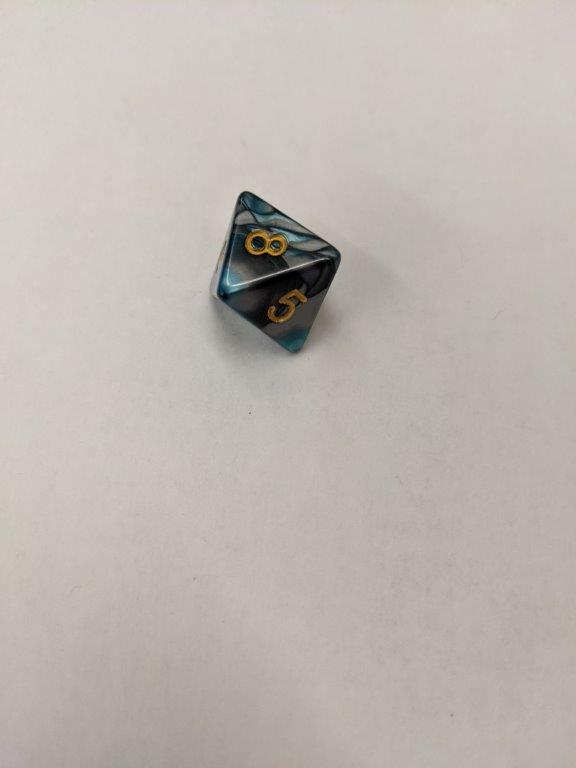d8-8: (205, 191, 343, 357)
